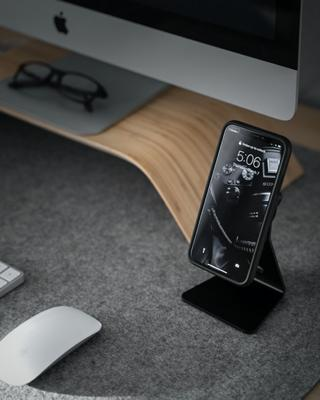Mobile Phone: (186, 118, 292, 287)
